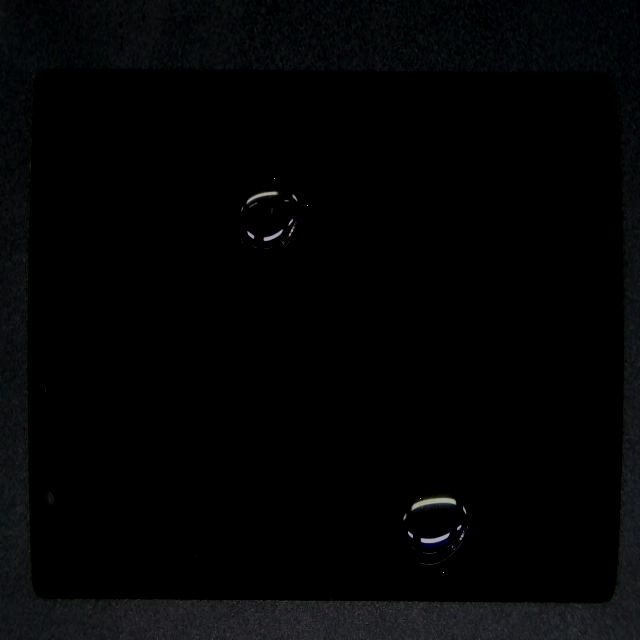oil: (204, 216, 611, 640), (119, 88, 358, 314)
